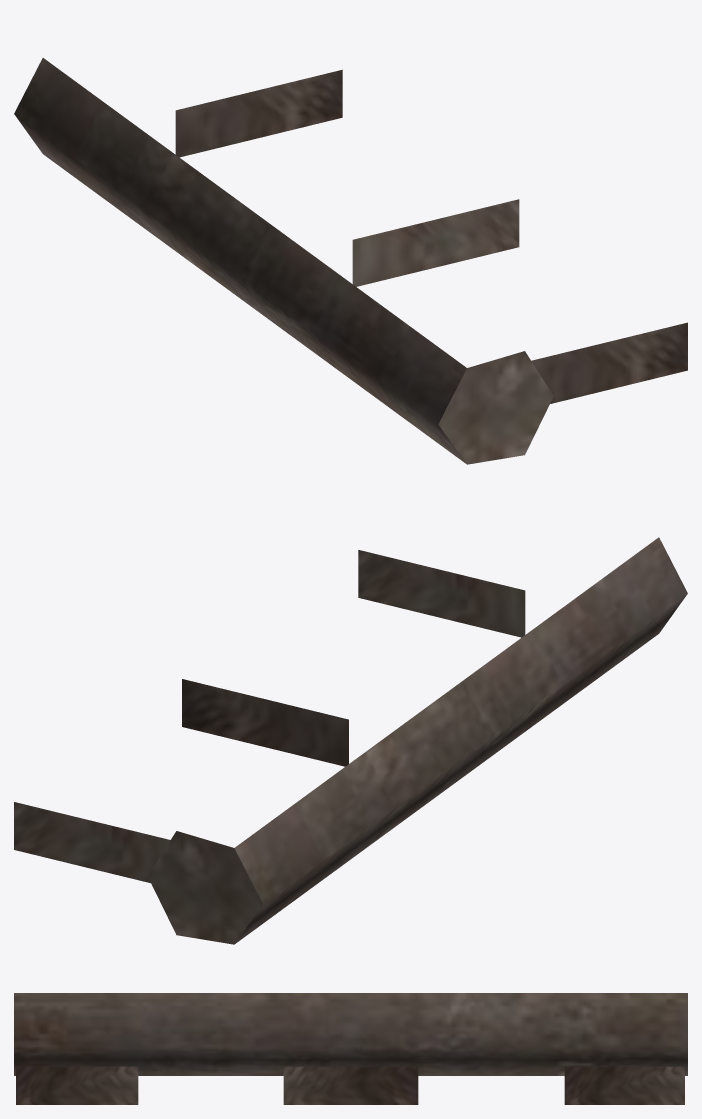
The model's file is prop_door_metal_hatch_hinge.glb.
The picture shows the model from 3 angles, top to bottom: view 1: azimuth 30°, elevation 25°; view 2: azimuth 150°, elevation 25°; view 3: azimuth 270°, elevation 25°; orthographic projection. The views are drawn at different scales.
Bounding box in the file's own units: 10.72 × 4.26 × 31.39.
1 material, 1 textured.
